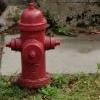a fire hydrant: (8, 4, 59, 87)
